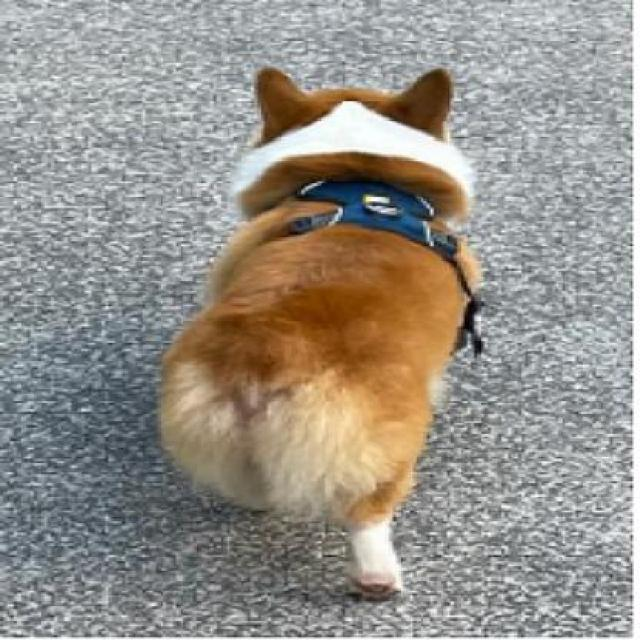Dog: (152, 62, 483, 606)
